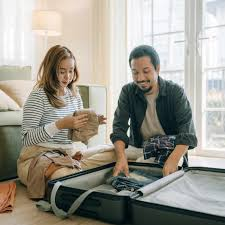suitcase: (45, 160, 225, 225)
